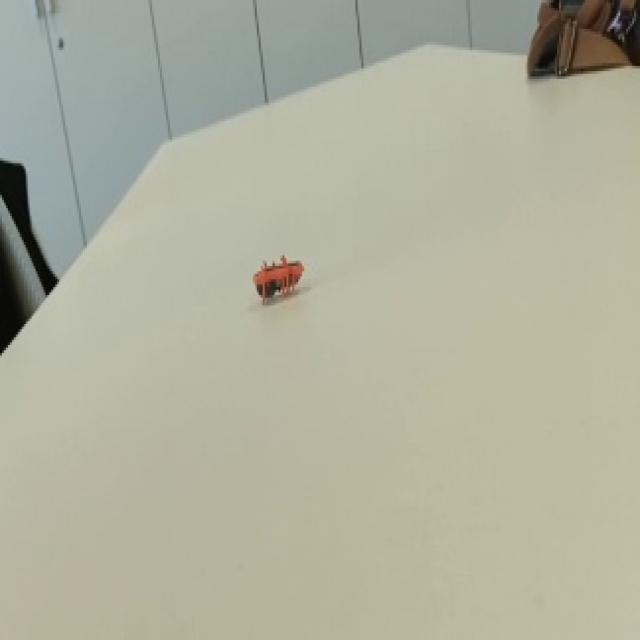7_NanoBug_Naranja: (239, 241, 318, 309)
